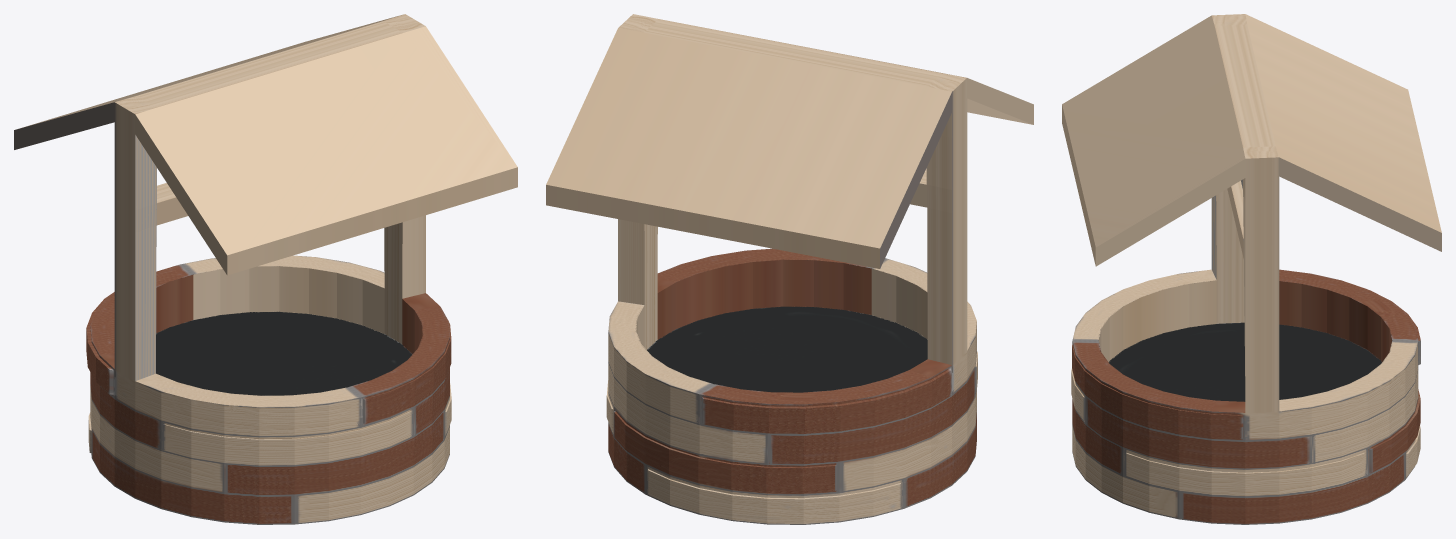
Rendered from puit.fbx.
3 views of the same model, side by side, from view 1: azimuth 30°, elevation 25°; view 2: azimuth 150°, elevation 25°; view 3: azimuth 270°, elevation 25° (orthographic). The views are drawn at different scales.
Visible parts, largest first — view 1: Cube; view 2: Cube; view 3: Cube.
Part boxes in pixels (bbox=[...]): Cube: bbox=[14, 14, 517, 524]; Cube: bbox=[546, 14, 1033, 524]; Cube: bbox=[1062, 14, 1441, 524].
Bounding box in the file's own units: 338 × 365 × 343.
1 material, 1 textured.
